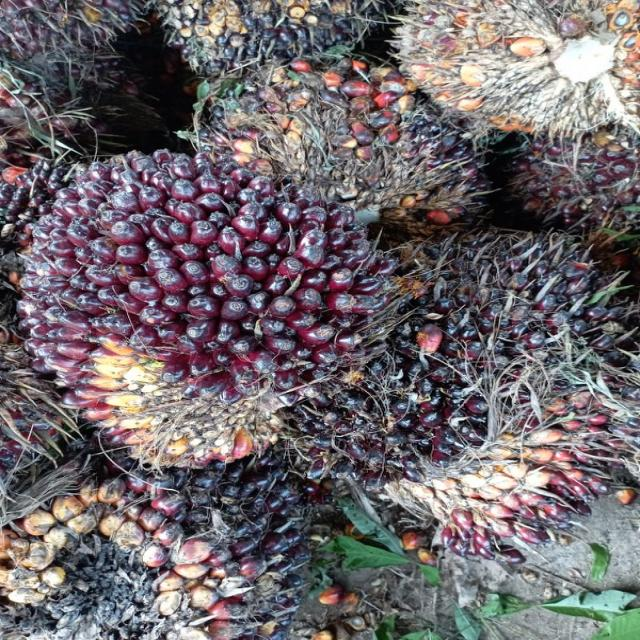fraksi 1: (4, 120, 406, 474)
